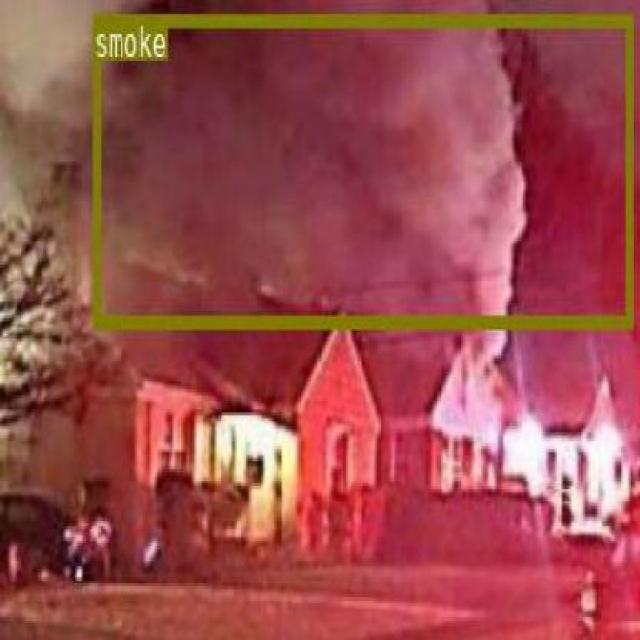smoke: (91, 15, 632, 328)
